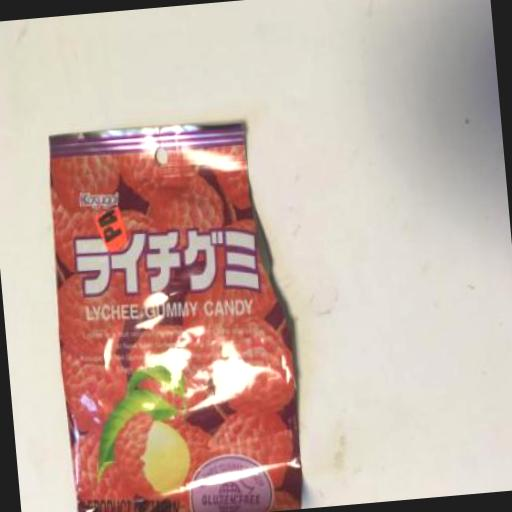plastic: (41, 113, 310, 512)
